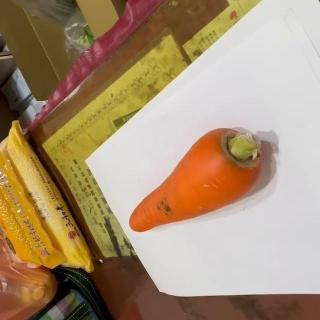carrot: (129, 126, 266, 232)
